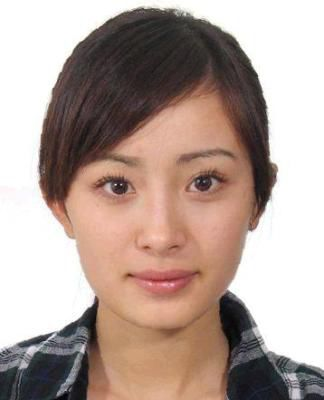unmask: (77, 120, 249, 300)
